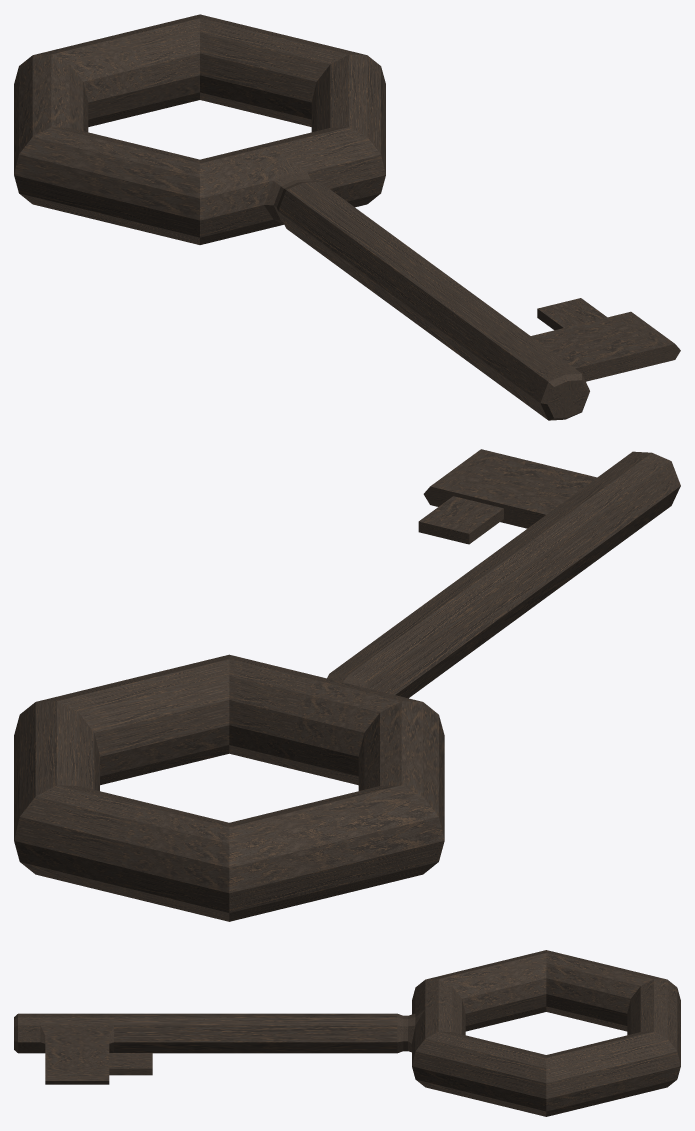
The model's file is key.gltf.
3 views of the same model, one above another, from view 1: azimuth 30°, elevation 25°; view 2: azimuth 150°, elevation 25°; view 3: azimuth 270°, elevation 25° (orthographic). The views are drawn at different scales.
Visible parts, largest first — view 1: Key; view 2: Key; view 3: Key.
Boxes of the visible parts, x1,y1,x2,y2 form: Key: (14,14,680,420); Key: (14,449,680,921); Key: (14,950,680,1116).
Size of the model in its own units: 2.5 by 0.5 by 5.37.
1 material, 1 textured.
